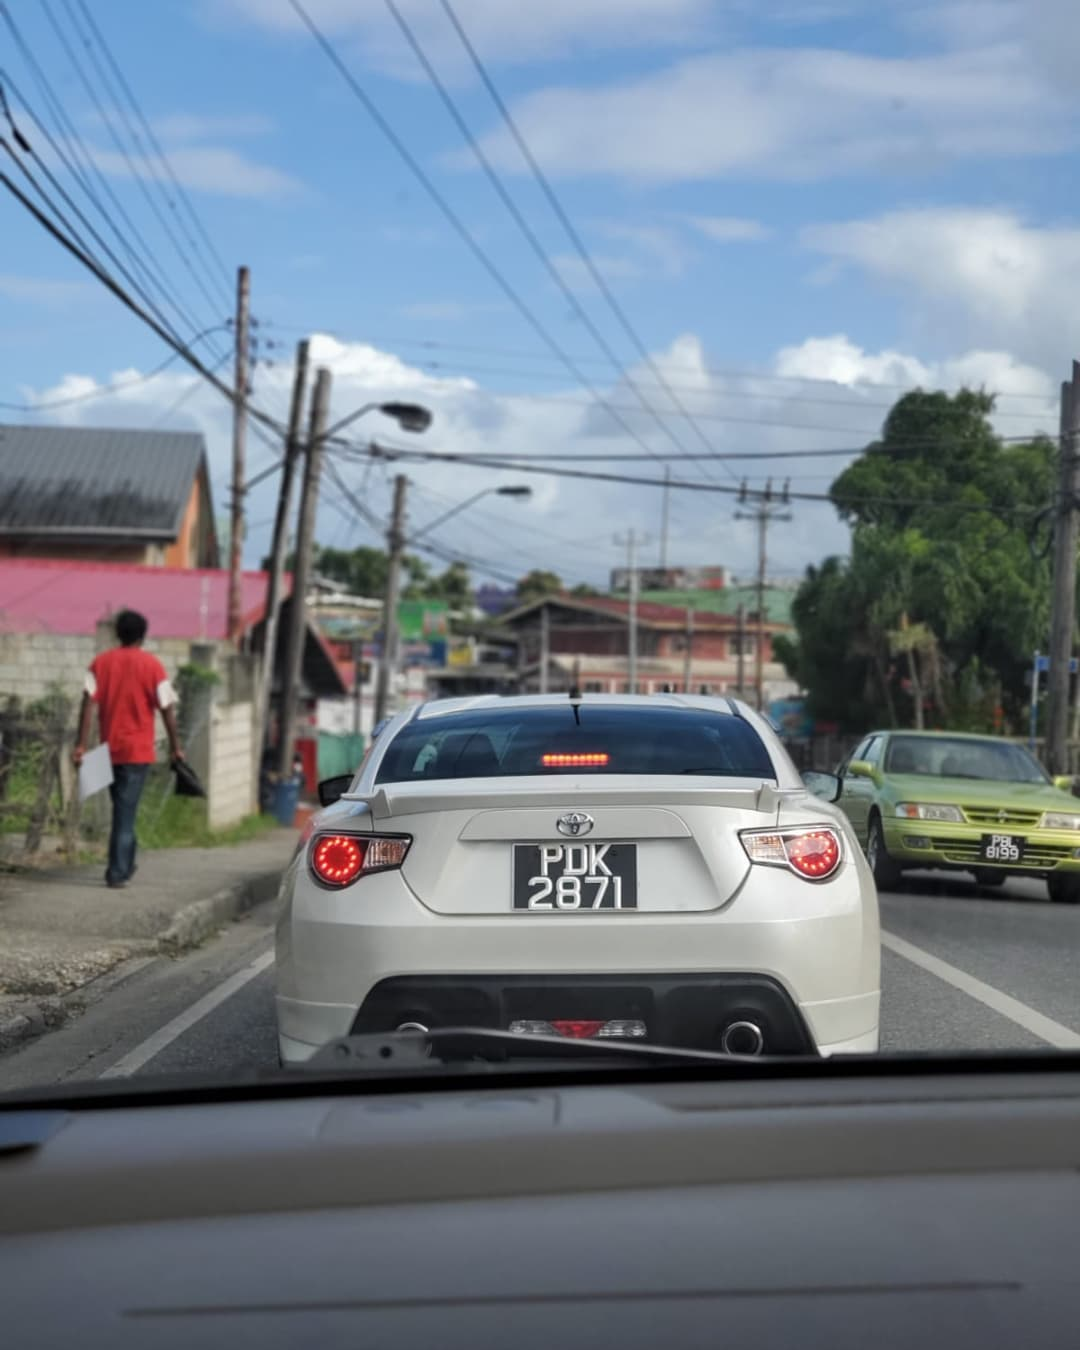License-Plate: (513, 842, 636, 910), (982, 833, 1023, 859)
